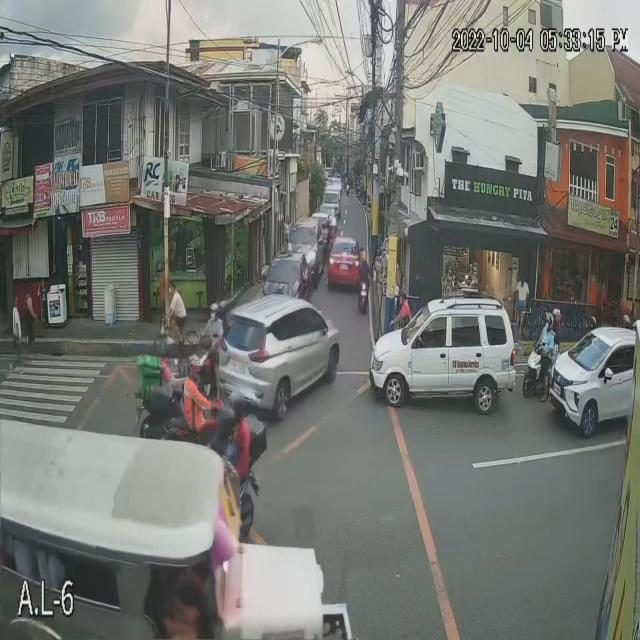full: (215, 406, 236, 447), (228, 388, 247, 422), (186, 352, 203, 382)
half: (553, 307, 562, 327), (544, 314, 553, 331)
invalid: (218, 297, 228, 312), (209, 302, 219, 312)
